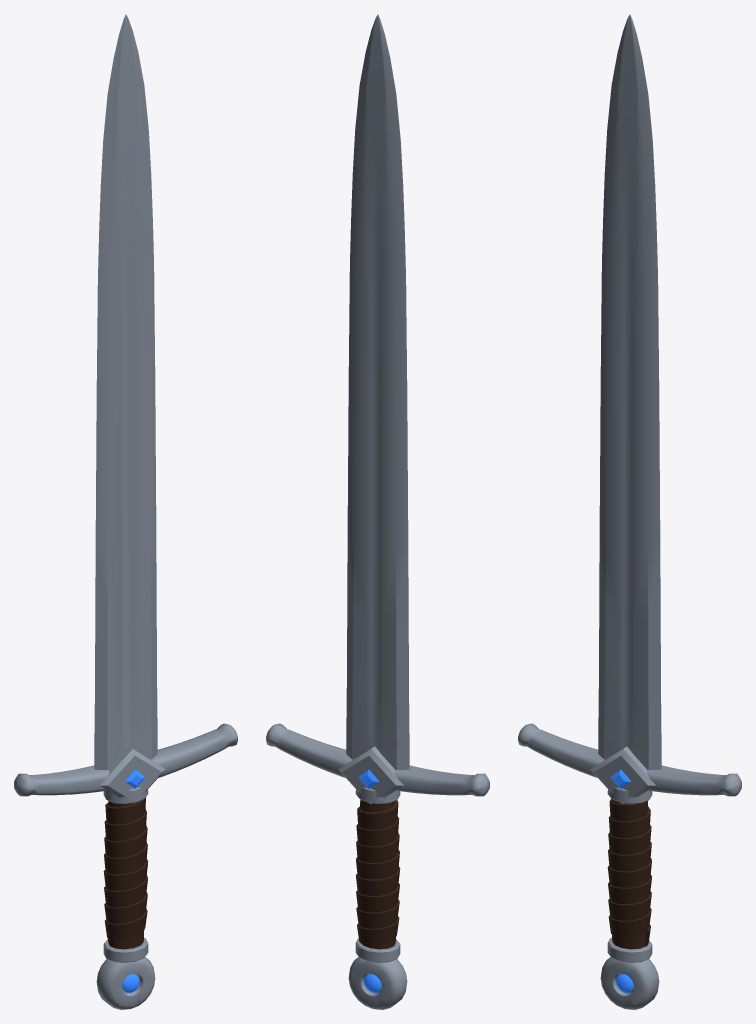
The model's file is Sword.fbx.
3 views of the same model, side by side, from view 1: azimuth 30°, elevation 25°; view 2: azimuth 150°, elevation 25°; view 3: azimuth 330°, elevation 25° (orthographic).
Visible parts, largest first — view 1: Sword_Blade, Sword_Grip, Sword_Guard, Sword_Pommel, Sword_Ferrules; view 2: Sword_Blade, Sword_Grip, Sword_Guard, Sword_Pommel, Sword_Ferrules; view 3: Sword_Blade, Sword_Grip, Sword_Guard, Sword_Pommel, Sword_Ferrules.
Boxes of the visible parts, x1,y1,x2,y2 form: Sword_Blade: (94, 14, 157, 769); Sword_Grip: (103, 797, 148, 949); Sword_Guard: (14, 723, 237, 803); Sword_Pommel: (96, 957, 155, 1009); Sword_Ferrules: (103, 787, 148, 962); Sword_Blade: (346, 14, 409, 769); Sword_Grip: (356, 799, 400, 949); Sword_Guard: (266, 723, 489, 804); Sword_Pommel: (348, 957, 407, 1009); Sword_Ferrules: (355, 787, 400, 962); Sword_Blade: (598, 14, 661, 769); Sword_Grip: (607, 799, 651, 949); Sword_Guard: (518, 723, 741, 803); Sword_Pommel: (600, 957, 659, 1009); Sword_Ferrules: (607, 787, 652, 962).
Size of the model in its own units: 22.56 by 97.57 by 3.8.
